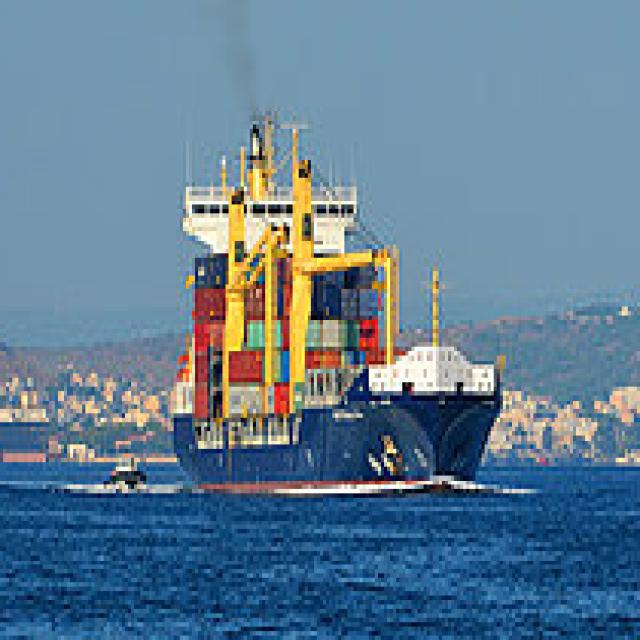Cargo: (171, 98, 509, 489)
